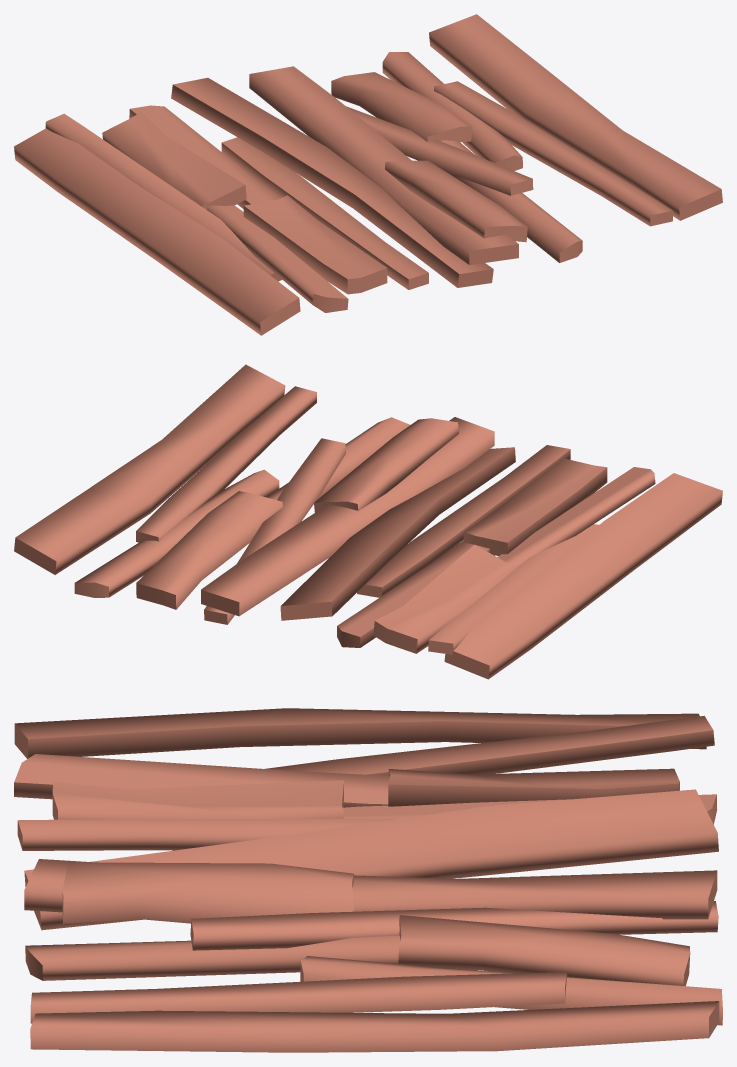
Rendered from planks_01.fbx.
3 views of the same model, one above another, from view 1: azimuth 30°, elevation 25°; view 2: azimuth 150°, elevation 25°; view 3: azimuth 270°, elevation 25° (orthographic). The views are drawn at different scales.
Visible parts, largest first — view 1: Plane.042; view 2: Plane.042; view 3: Plane.042.
Part boxes in pixels (x1=…): Plane.042: x1=14, y1=14, x2=722, y2=335; Plane.042: x1=14, y1=364, x2=722, y2=679; Plane.042: x1=14, y1=708, x2=722, y2=1052.
Bounding box in the file's own units: 3.25 × 0.3496 × 2.92.
